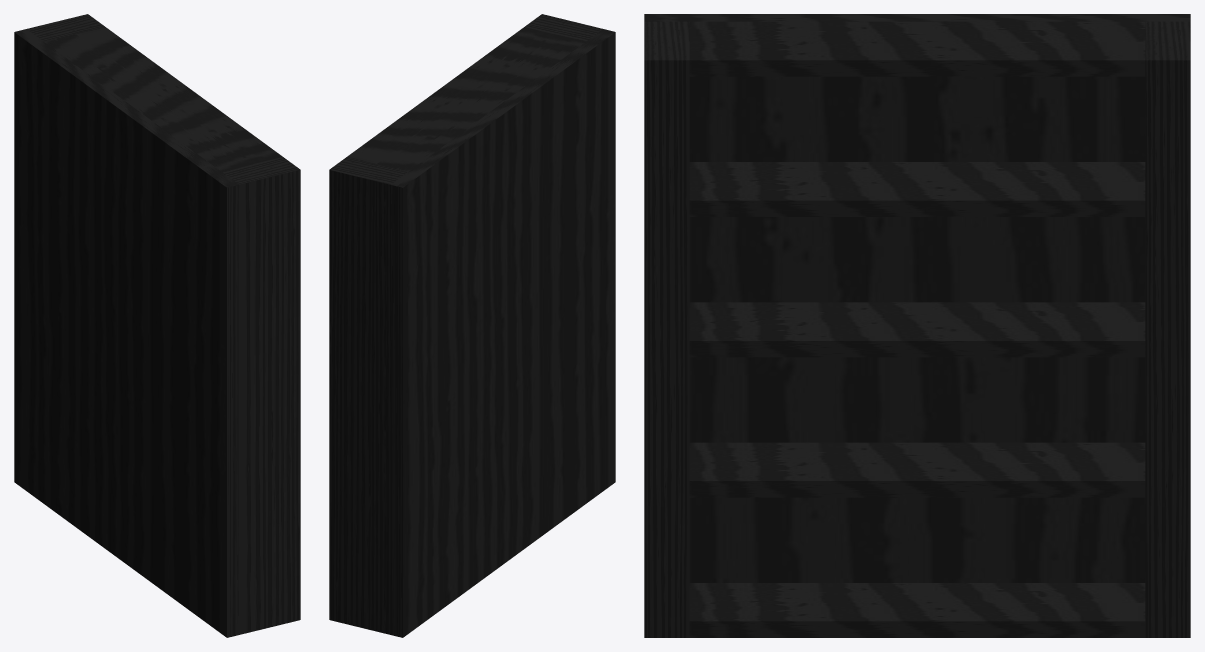
File: bookshelf.fbx
3 views of the same model, side by side, from view 1: azimuth 30°, elevation 25°; view 2: azimuth 150°, elevation 25°; view 3: azimuth 270°, elevation 25° (orthographic). The views are drawn at different scales.
Parts seen in each view (by area): view 1: Cube.007, Cube.001, Cube.003, Cube.006; view 2: Cube.007, Cube.006, Cube.003, Cube.001; view 3: Cube.007, Cube.001, Cube.006, Cube.003, Cube.004, Cube.005, Cube, Cube.002.
Part boxes in pixels (x1=…): Cube.007: x1=14, y1=29, x2=239, y2=637; Cube.001: x1=222, y1=157, x2=300, y2=634; Cube.003: x1=44, y1=27, x2=282, y2=171; Cube.006: x1=27, y1=14, x2=104, y2=41; Cube.007: x1=390, y1=29, x2=615, y2=637; Cube.006: x1=329, y1=157, x2=407, y2=634; Cube.003: x1=347, y1=27, x2=585, y2=171; Cube.001: x1=525, y1=14, x2=602, y2=41; Cube.007: x1=644, y1=14, x2=1190, y2=582; Cube.001: x1=644, y1=21, x2=689, y2=637; Cube.006: x1=1145, y1=21, x2=1190, y2=637; Cube.003: x1=689, y1=21, x2=1145, y2=76; Cube.004: x1=689, y1=302, x2=1145, y2=357; Cube.005: x1=689, y1=442, x2=1145, y2=497; Cube: x1=689, y1=162, x2=1145, y2=216; Cube.002: x1=689, y1=583, x2=1145, y2=637.
Bounding box in the file's own units: 240 × 1400 × 1200.
Materials: 1 (1 with a texture image).
